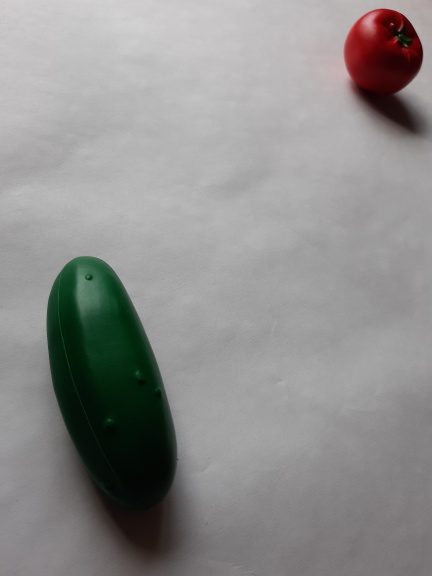cucumber: (39, 244, 187, 528)
tomato: (334, 4, 431, 101)
